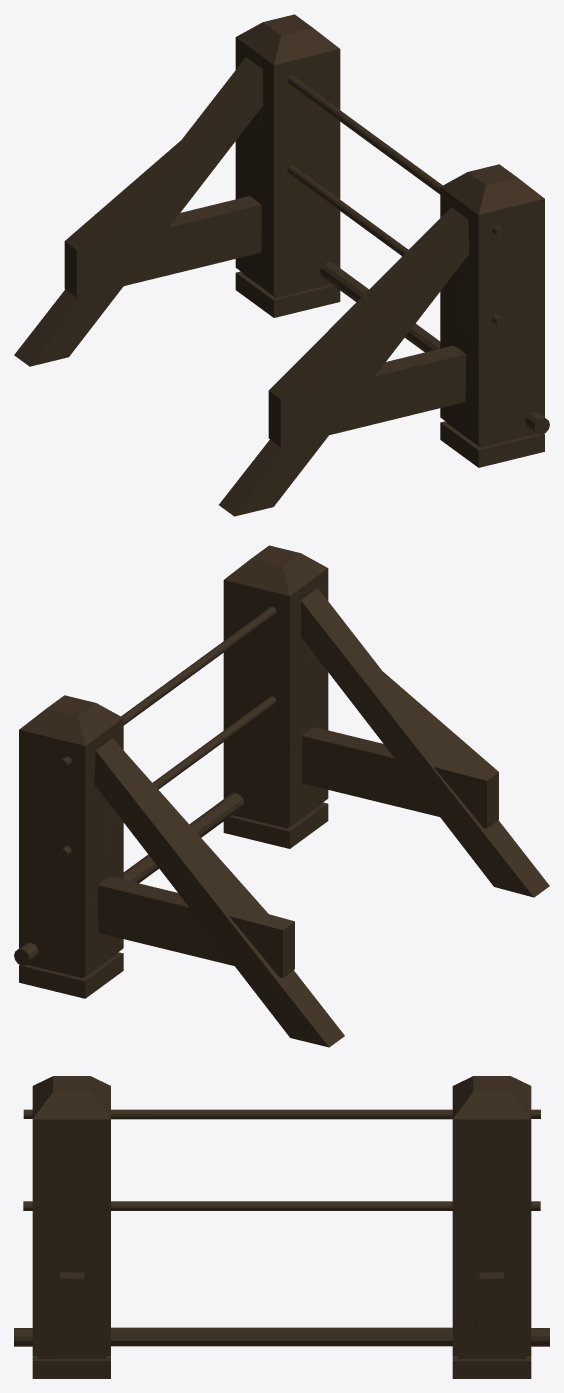
File: WeaponRack.fbx
The picture shows the model from 3 angles, top to bottom: view 1: azimuth 30°, elevation 25°; view 2: azimuth 150°, elevation 25°; view 3: azimuth 270°, elevation 25°; orthographic projection. The views are drawn at different scales.
Parts seen in each view (by area): view 1: WeaponRack; view 2: WeaponRack; view 3: WeaponRack.
Boxes of the visible parts, <box> form: WeaponRack: <box>14,14,549,516</box>; WeaponRack: <box>14,545,549,1047</box>; WeaponRack: <box>14,1076,549,1378</box>.
Bounding box in the file's own units: 2.93 × 2.43 × 4.24.
